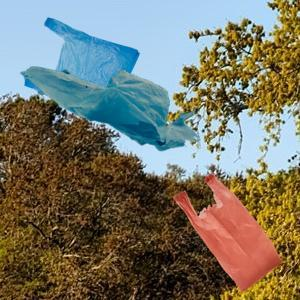plastic_bag: (173, 172, 282, 292)
